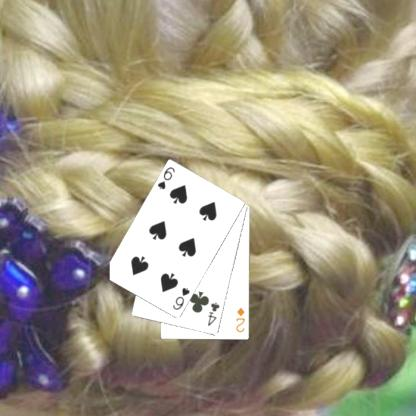2D: (234, 305, 246, 334)
4C: (205, 300, 221, 327)
6S: (155, 164, 176, 192), (170, 285, 191, 312)
